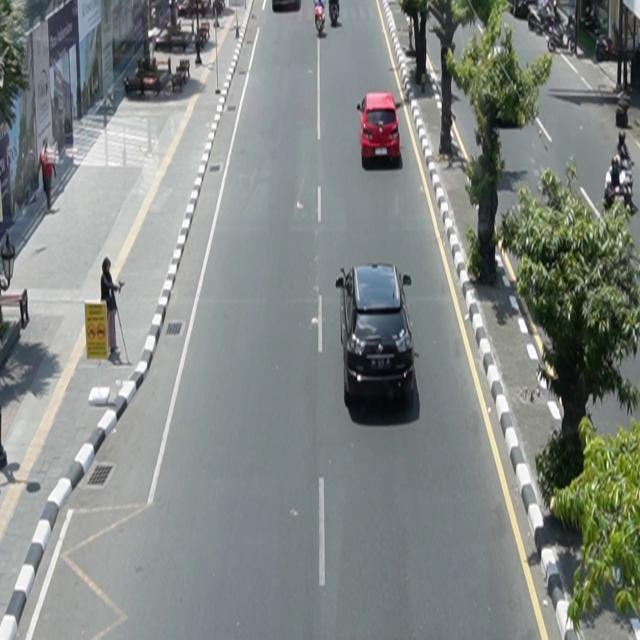car: (336, 263, 416, 407), (357, 92, 401, 168)
